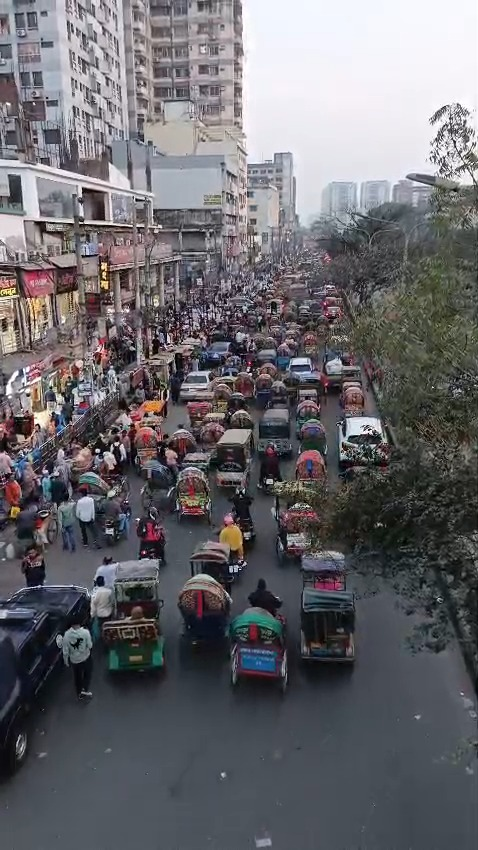auto-ricksaw: (288, 541, 374, 699), (82, 563, 169, 690), (182, 537, 242, 662), (164, 469, 227, 531)
private car: (330, 403, 403, 486)
